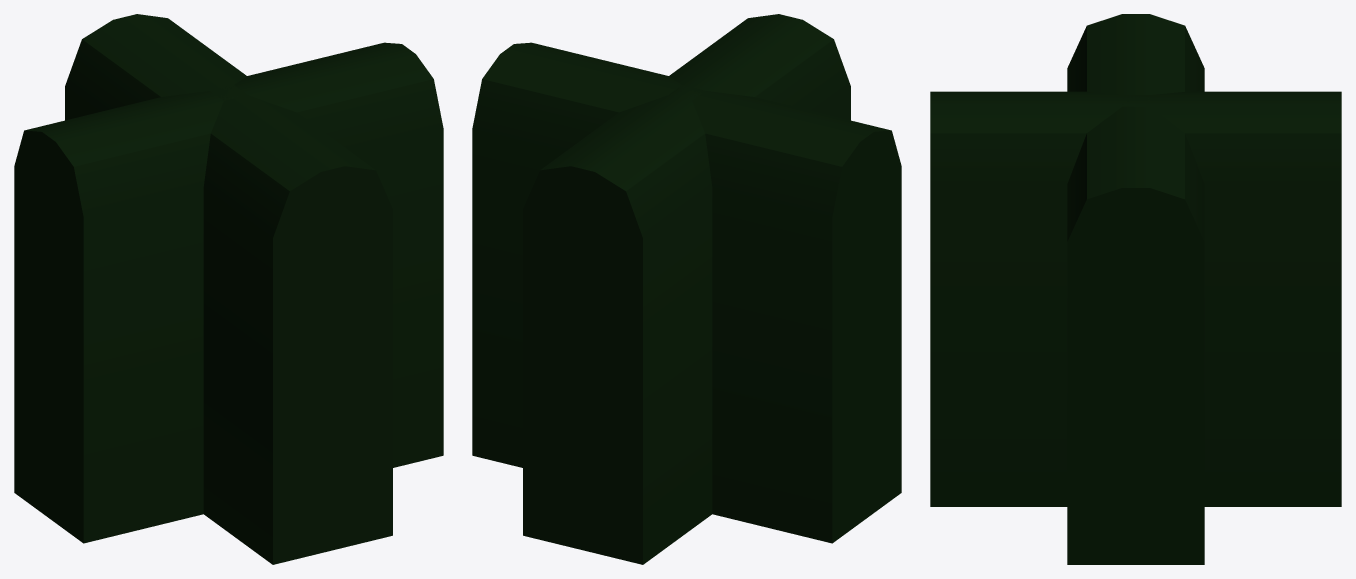
File: Crossroads Hedge.FBX
The picture shows the model from 3 angles, left to right: view 1: azimuth 30°, elevation 25°; view 2: azimuth 150°, elevation 25°; view 3: azimuth 270°, elevation 25°; orthographic projection.
Parts seen in each view (by area): view 1: Straight Hedge001, Crossroads Hedge; view 2: Straight Hedge001, Crossroads Hedge; view 3: Crossroads Hedge, Straight Hedge001.
Boxes of the visible parts, bbox=[...] form: Straight Hedge001: bbox=[14, 42, 443, 543]; Crossroads Hedge: bbox=[65, 14, 392, 564]; Straight Hedge001: bbox=[472, 42, 901, 543]; Crossroads Hedge: bbox=[523, 14, 850, 564]; Crossroads Hedge: bbox=[930, 91, 1341, 506]; Straight Hedge001: bbox=[1067, 14, 1204, 564].
Bounding box in the file's own units: 3 × 3.04 × 3.
